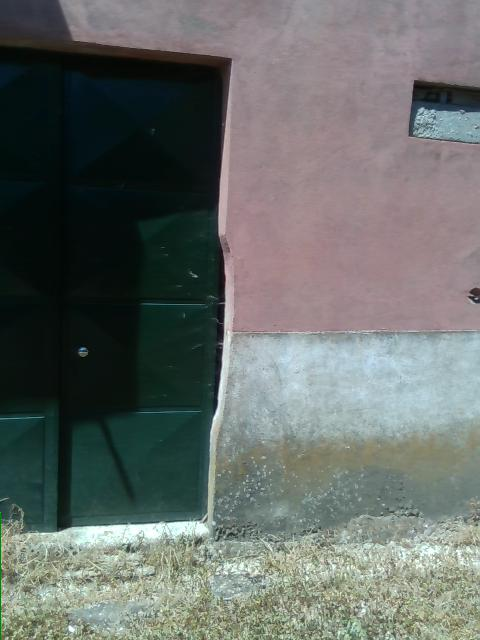door: (0, 40, 224, 537)
